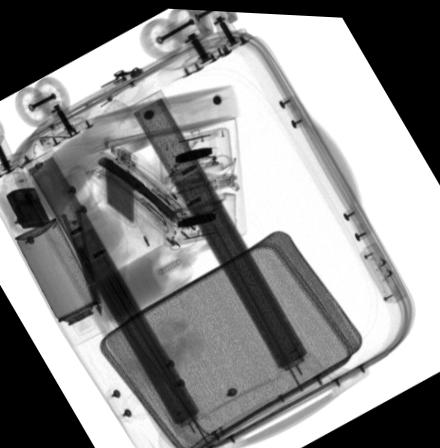Lighter: (4, 185, 48, 228)
Powerbank: (101, 135, 137, 225)
Scissors: (28, 165, 103, 317)
Sprayer: (13, 214, 110, 347)
